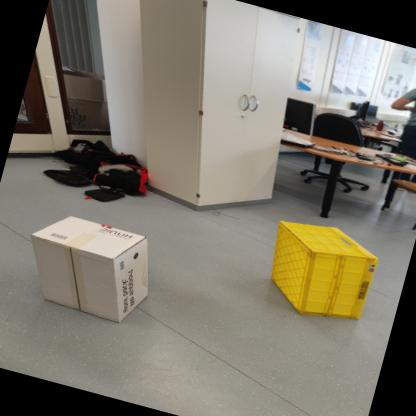box: (8, 184, 183, 350), (253, 203, 398, 340)
